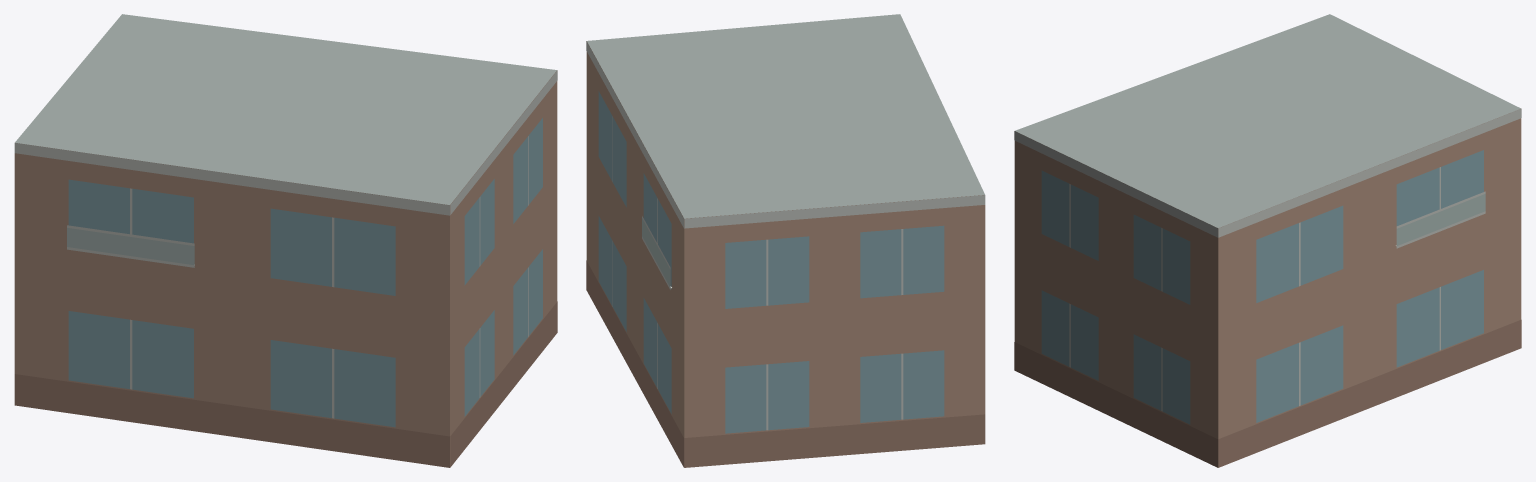
Rendered from survey-upis-32813697.glb.
The picture shows the model from 3 angles, left to right: view 1: azimuth 30°, elevation 25°; view 2: azimuth 150°, elevation 25°; view 3: azimuth 270°, elevation 25°; orthographic projection. The views are drawn at different scales.
Visible parts, largest first — view 1: survey-upis-32813697.tmp; view 2: survey-upis-32813697.tmp; view 3: survey-upis-32813697.tmp.
Boxes of the visible parts, left/top/right/bottom form: survey-upis-32813697.tmp: left=14, top=14, right=557, bottom=467; survey-upis-32813697.tmp: left=586, top=14, right=985, bottom=467; survey-upis-32813697.tmp: left=1014, top=14, right=1521, bottom=467.
Bounding box in the file's own units: 11.71 × 6.1 × 11.7.
